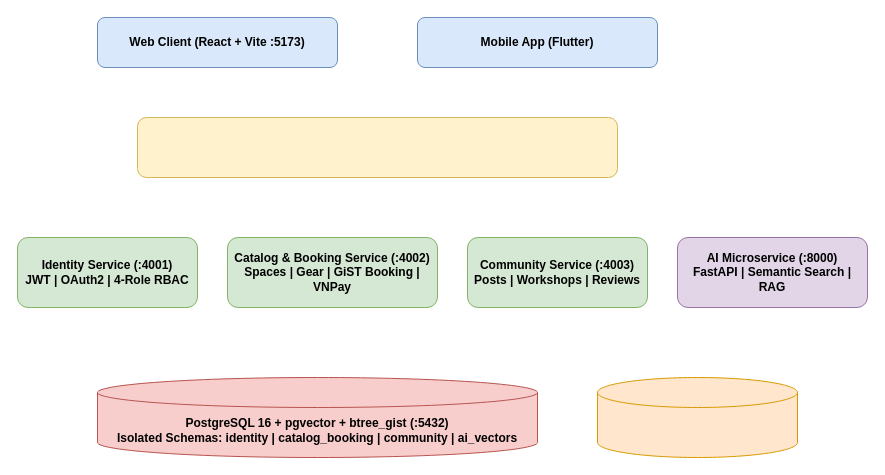
Some shapes in this 885 by 475 pixel diagram are drawn without their labels. The shapes that lost their labels are listed below. From the top down, each one's centre as x and y in pixels, then its label:
At (x=377, y=147): "Nginx API Gateway (:4000) Reverse Proxy | CORS | SOA Routing".
At (x=697, y=417): "Redis (:6379) Cache & SOA Event Bus".
